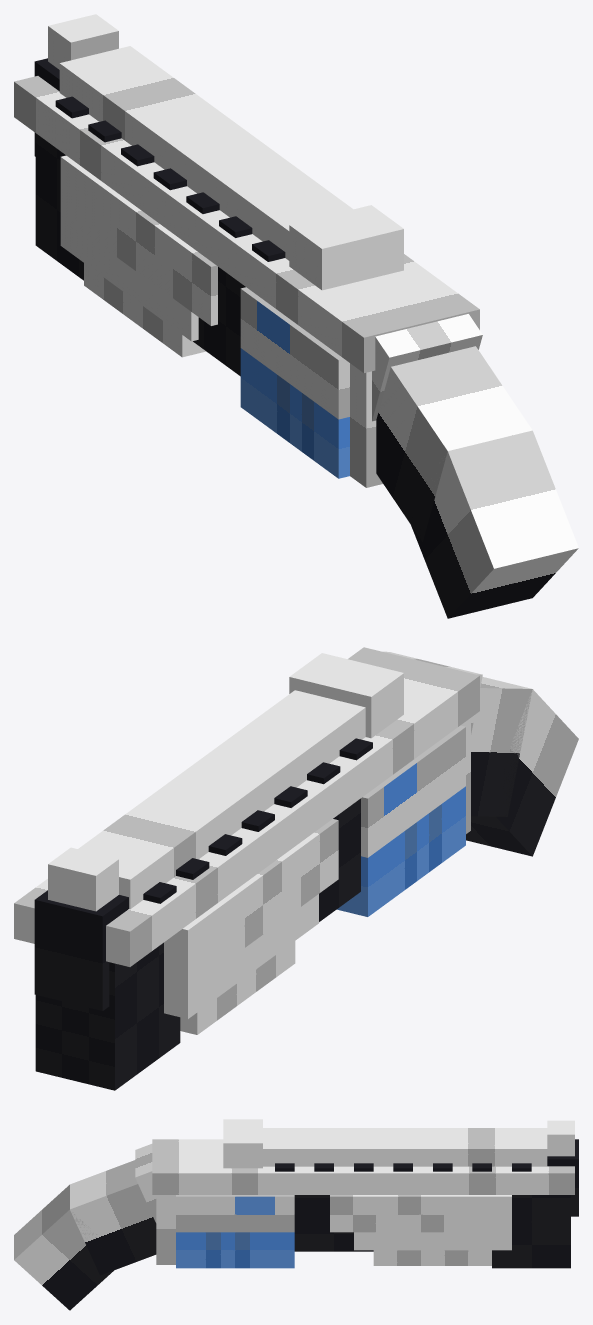
Rendered from testGun.obj.
3 views of the same model, one above another, from view 1: azimuth 30°, elevation 25°; view 2: azimuth 150°, elevation 25°; view 3: azimuth 270°, elevation 25° (orthographic). The views are drawn at different scales.
Parts seen in each view (by area): view 1: cube.004, cube.005, cube.000, cube, cube.003, cube.006, cube.016, cube.015, cube.002, cube.019, cube.021, cube.017 (+3 smaller); view 2: cube.004, cube.005, cube.021, cube.003, cube.000, cube.022, cube.016, cube.015, cube, cube.006, cube.002, cube.014 (+3 smaller); view 3: cube.004, cube.005, cube.003, cube, cube.000, cube.021, cube.016, cube.015, cube.002, cube.020, cube.006, cube.001 (+4 smaller).
Boxes of the visible parts, bbox=[...] form: cube.004: bbox=[14, 76, 479, 372]; cube.005: bbox=[59, 46, 352, 260]; cube.000: bbox=[411, 430, 578, 618]; cube: bbox=[376, 346, 532, 541]; cube.003: bbox=[60, 155, 217, 325]; cube.006: bbox=[289, 205, 403, 290]; cube.016: bbox=[240, 287, 349, 419]; cube.015: bbox=[240, 348, 349, 478]; cube.002: bbox=[60, 216, 198, 341]; cube.019: bbox=[372, 314, 482, 421]; cube.021: bbox=[35, 133, 83, 280]; cube.017: bbox=[350, 363, 382, 487]; cube.004: bbox=[14, 647, 479, 966]; cube.005: bbox=[78, 690, 365, 909]; cube.021: bbox=[35, 942, 180, 1090]; cube.003: bbox=[164, 819, 338, 989]; cube.000: bbox=[466, 689, 578, 856]; cube.022: bbox=[34, 890, 128, 1010]; cube.016: bbox=[361, 725, 465, 857]; cube.015: bbox=[337, 786, 465, 916]; cube: bbox=[471, 677, 532, 816]; cube.006: bbox=[289, 653, 403, 738]; cube.002: bbox=[164, 894, 318, 1018]; cube.014: bbox=[48, 847, 118, 911]; cube.004: bbox=[152, 1139, 574, 1194]; cube.005: bbox=[263, 1128, 547, 1166]; cube.003: bbox=[330, 1195, 511, 1232]; cube: bbox=[70, 1160, 156, 1275]; cube.000: bbox=[14, 1184, 113, 1310]; cube.021: bbox=[492, 1195, 570, 1268]; cube.016: bbox=[176, 1195, 294, 1232]; cube.015: bbox=[176, 1232, 294, 1268]; cube.002: bbox=[354, 1232, 511, 1250]; cube.020: bbox=[294, 1195, 373, 1251]; cube.006: bbox=[223, 1119, 262, 1168]; cube.001: bbox=[373, 1250, 491, 1265].
Size of the model in its own units: 0.1406 by 0.2977 by 0.894.
1 material, 1 textured.
